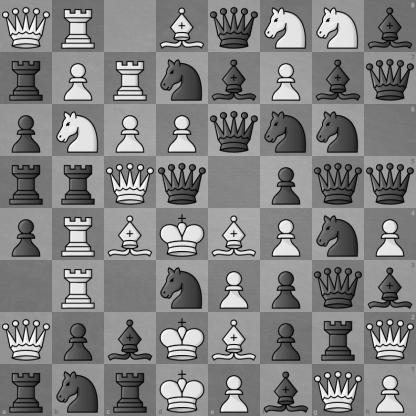B: (105, 209, 156, 260), (157, 1, 208, 52), (209, 209, 260, 260), (209, 313, 260, 364)
K: (156, 364, 209, 416), (157, 209, 208, 260), (157, 313, 208, 364)
N: (53, 105, 104, 156), (261, 1, 312, 52), (313, 1, 364, 52)
P: (364, 364, 416, 416), (209, 364, 260, 416), (364, 209, 416, 260), (53, 53, 104, 104), (105, 105, 156, 156), (157, 105, 208, 156), (209, 261, 260, 312), (261, 53, 312, 104), (261, 209, 312, 260)
Q: (312, 364, 364, 416), (364, 312, 416, 364), (1, 1, 52, 52), (1, 313, 52, 364), (105, 157, 156, 208)
R: (53, 1, 104, 52), (53, 209, 104, 260), (53, 261, 104, 312), (105, 53, 156, 104)
b: (260, 364, 312, 416), (364, 0, 416, 52), (364, 260, 416, 312), (105, 313, 156, 364), (209, 53, 260, 104), (313, 53, 364, 104)
board: (0, 0, 415, 415)
n: (52, 364, 104, 416), (157, 53, 208, 104), (157, 261, 208, 312), (261, 105, 312, 156), (313, 105, 364, 156), (313, 209, 364, 260)
p: (1, 105, 52, 156), (1, 209, 52, 260), (53, 313, 104, 364), (261, 157, 312, 208), (261, 261, 312, 312), (261, 313, 312, 364)
q: (364, 156, 416, 209), (364, 52, 416, 104), (157, 157, 208, 208), (209, 1, 260, 52), (209, 105, 260, 156), (313, 157, 364, 208), (313, 261, 364, 312)
r: (0, 364, 52, 416), (104, 364, 156, 416), (1, 53, 52, 104), (1, 157, 52, 208), (53, 157, 104, 208), (313, 313, 364, 364)
